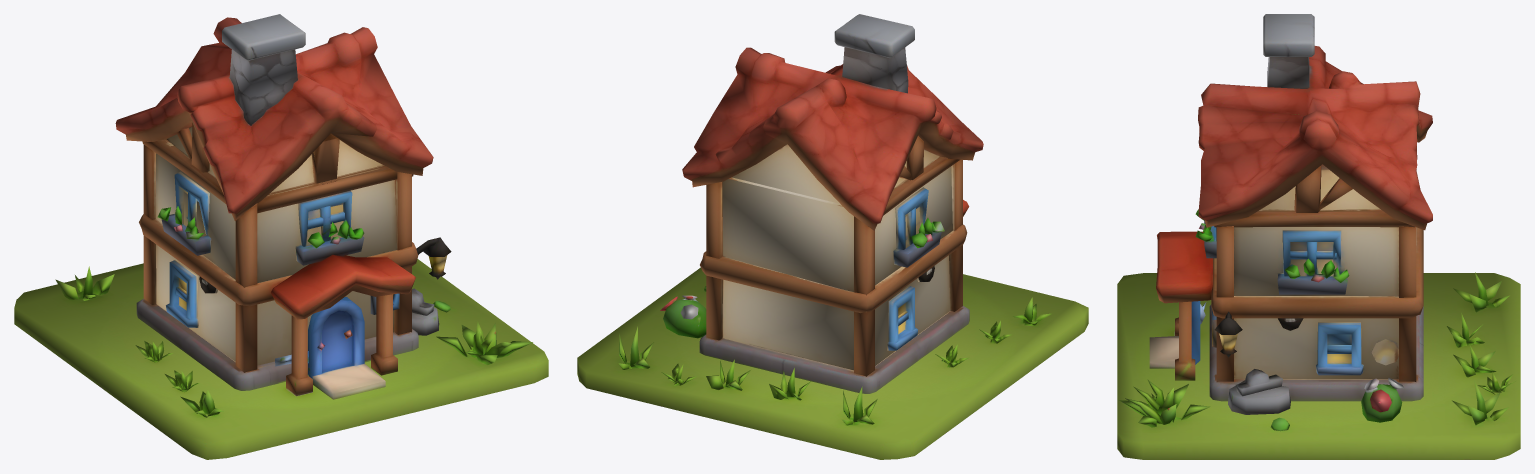
Rendered from casa_2.glb.
3 views of the same model, side by side, from view 1: azimuth 30°, elevation 25°; view 2: azimuth 150°, elevation 25°; view 3: azimuth 270°, elevation 25° (orthographic). The views are drawn at different scales.
Visible parts, largest first — view 1: tripo_node_b2d68ad6-7bd0-4c8f-b195-fb394be09761; view 2: tripo_node_b2d68ad6-7bd0-4c8f-b195-fb394be09761; view 3: tripo_node_b2d68ad6-7bd0-4c8f-b195-fb394be09761.
Part boxes in pixels (x1,y1,x2,y2): tripo_node_b2d68ad6-7bd0-4c8f-b195-fb394be09761: (14,14,548,459); tripo_node_b2d68ad6-7bd0-4c8f-b195-fb394be09761: (577,14,1088,459); tripo_node_b2d68ad6-7bd0-4c8f-b195-fb394be09761: (1117,14,1520,459).
Bounding box in the file's own units: 0.998 × 0.9082 × 0.998.
Materials: 1 (1 with a texture image).
